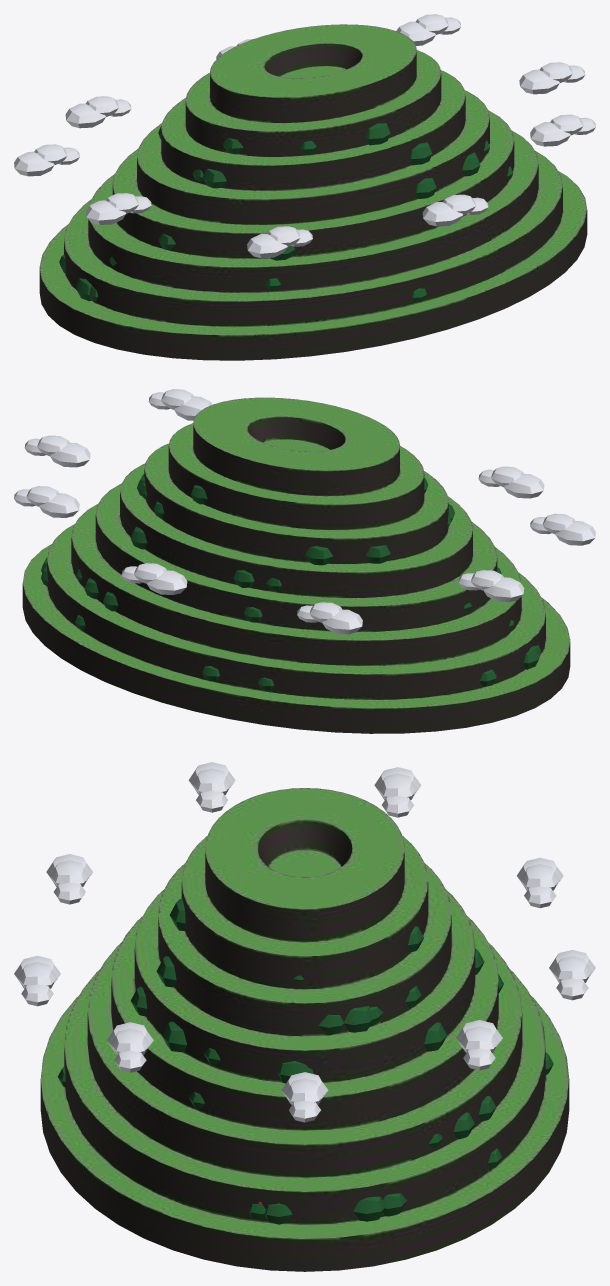
Rendered from volcan.glb.
3 renders of one model, top to bottom at view 1: azimuth 30°, elevation 25°; view 2: azimuth 150°, elevation 25°; view 3: azimuth 270°, elevation 25°, orthographic. The views are drawn at different scales.
Visible parts, largest first — view 1: volcan, nubes, cafetal; view 2: volcan, nubes, cafetal; view 3: volcan, nubes, cafetal.
Part boxes in pixels (<box>): volcan: <box>39,24,587,360</box>; nubes: <box>14,14,595,258</box>; cafetal: <box>59,123,513,302</box>; volcan: <box>22,397,570,733</box>; nubes: <box>14,389,595,634</box>; cafetal: <box>41,474,540,690</box>; volcan: <box>40,788,569,1271</box>; nubes: <box>14,762,595,1122</box>; cafetal: <box>58,899,553,1224</box>.
Size of the model in its own units: 0.8829 by 0.32 by 0.6429.
3 materials, 3 textured.
